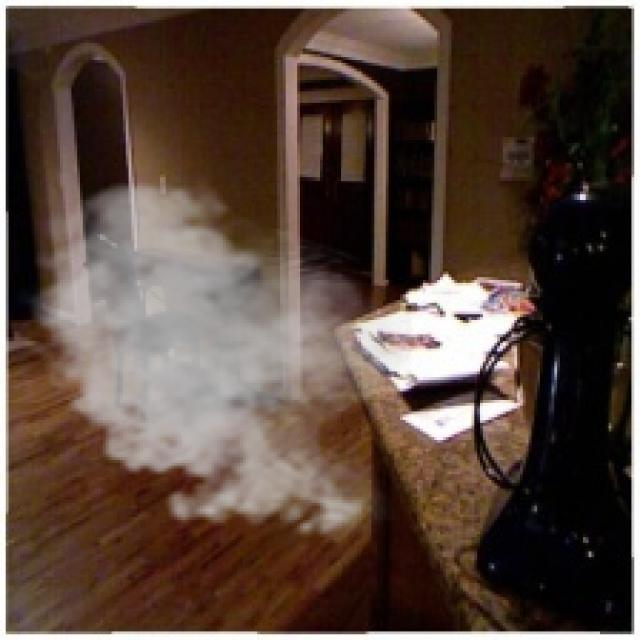Smoke: (17, 174, 412, 549)
